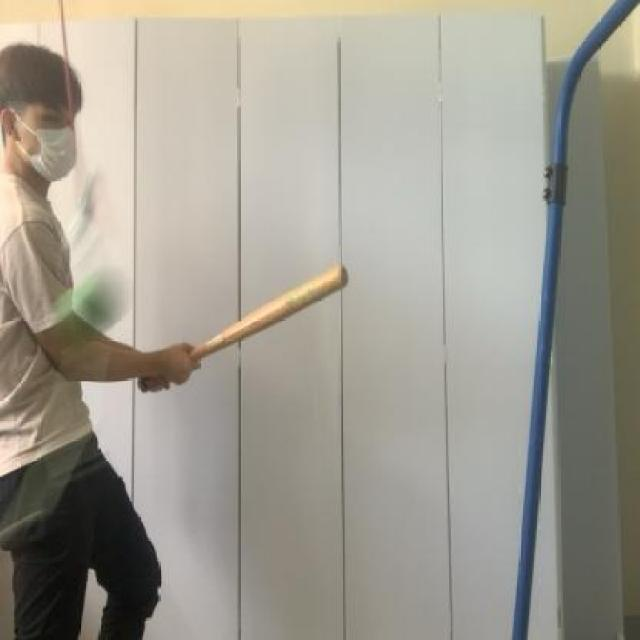baseball: (51, 279, 129, 341)
